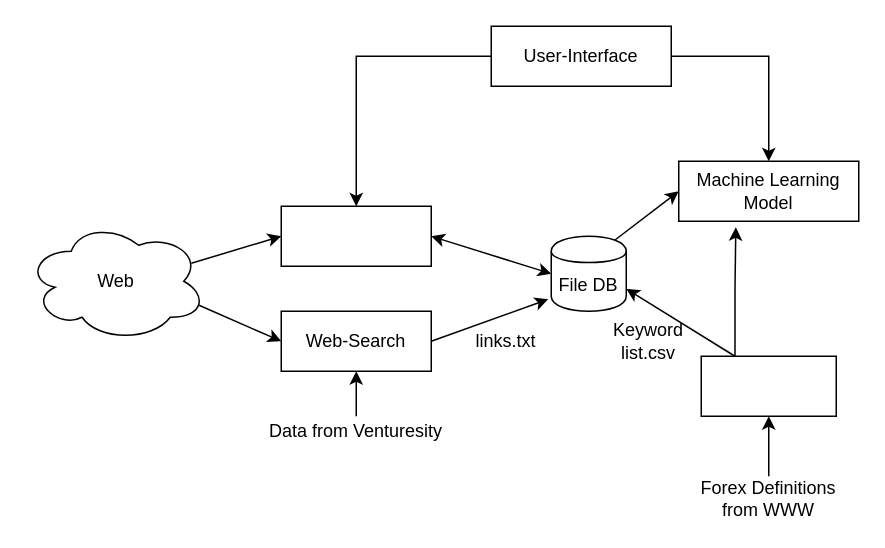
The diagram is 885 pixels wide and 548 high, and some of its shapes have lost their labels. The shapes that lost their labels are listed below. From the top down, each one's centre as x and y in pixels, then its label:
At (x=355, y=235): "Web-Scraping".
At (x=768, y=385): "Keyword Extraction".
